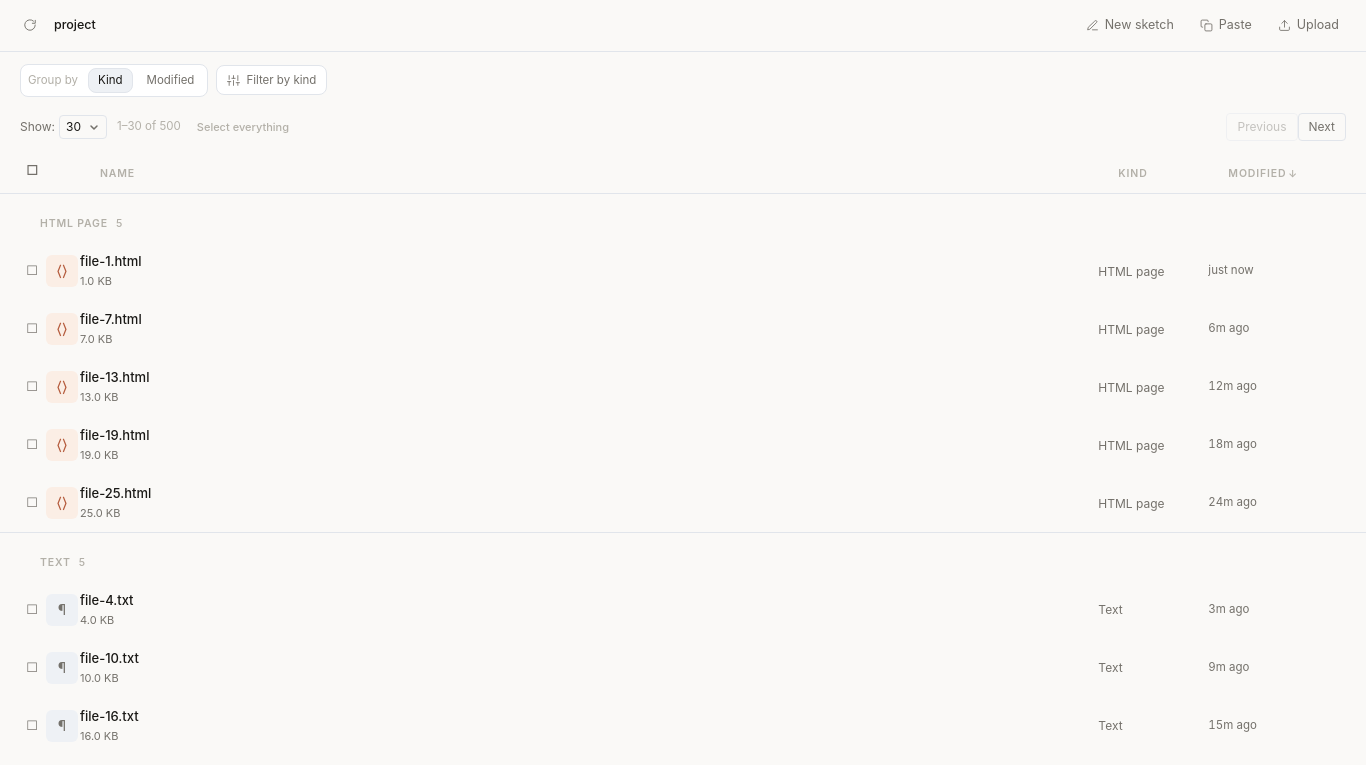
Scenario: DesignFilesPanel large-list regression › shows 60 rows when page size is changed to 60
Select "60" in the dropdown labelled "Show:": (83, 127) [59,115,107,139]
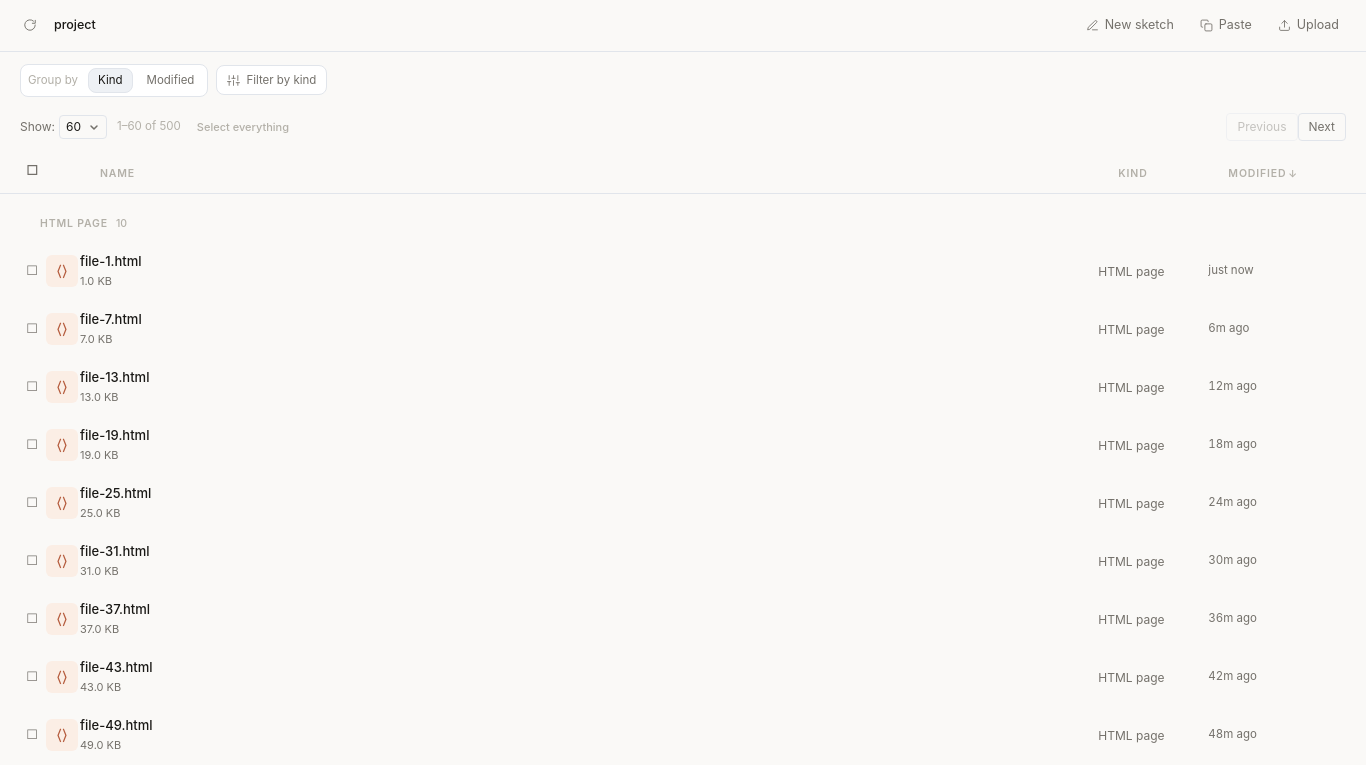
Expected: the number of rows with class "df-file-row" is 60
